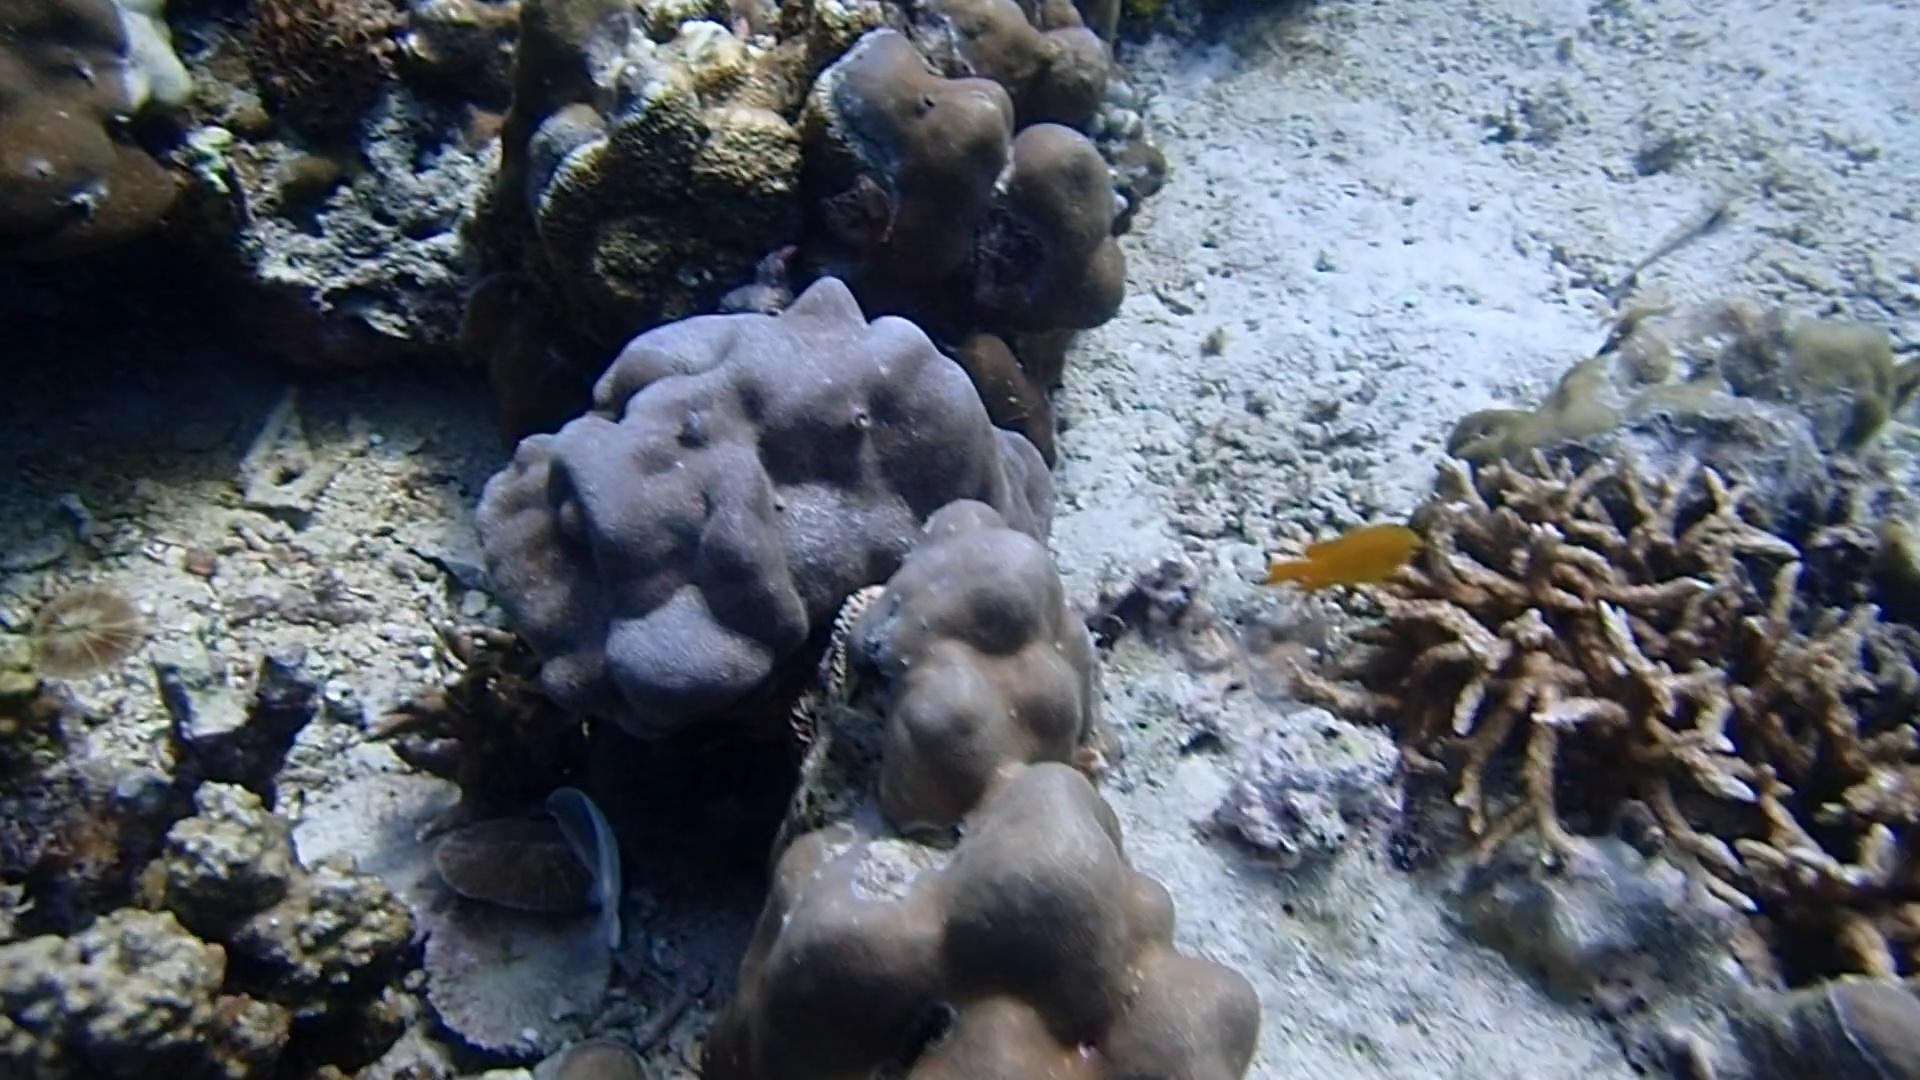Blue Fish Two: (537, 775, 637, 972)
Yellow Fish: (1254, 513, 1425, 599)
